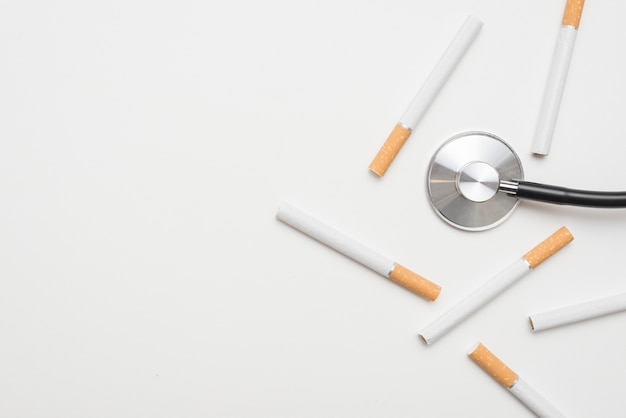cigarette: (366, 14, 482, 180), (418, 227, 575, 347), (272, 203, 444, 304), (531, 0, 586, 157), (467, 343, 569, 418), (527, 292, 626, 333)
